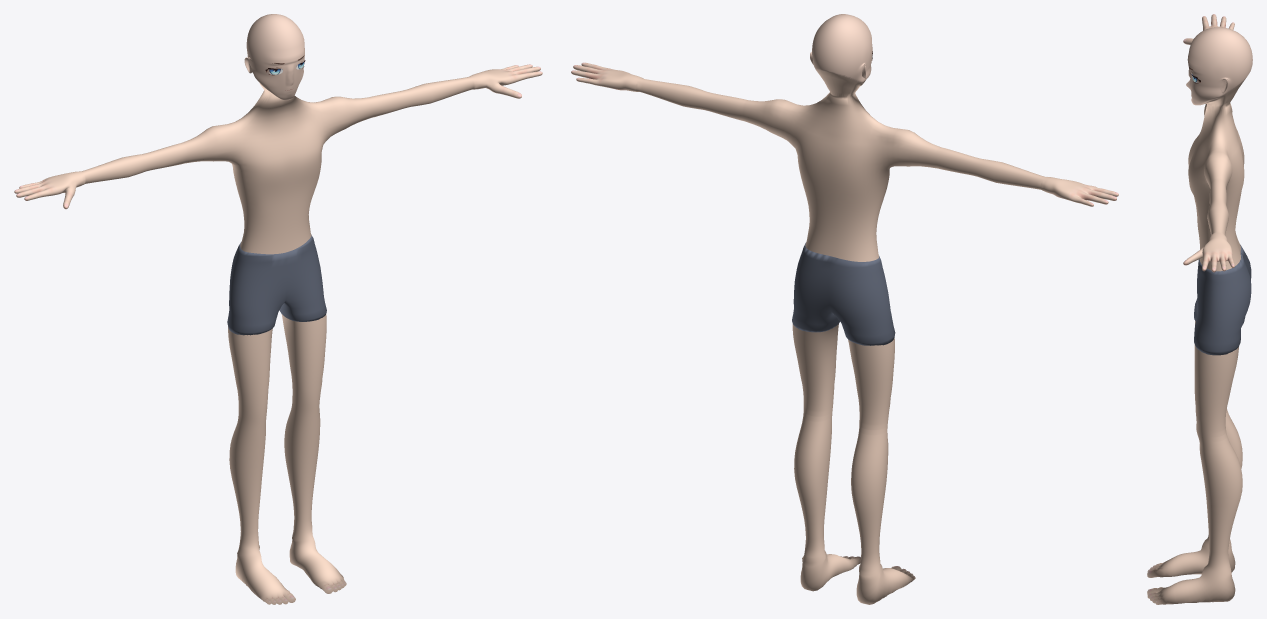
The model's file is enosh-t002.glb.
3 views of the same model, side by side, from view 1: azimuth 30°, elevation 25°; view 2: azimuth 150°, elevation 25°; view 3: azimuth 270°, elevation 25° (orthographic). The views are drawn at different scales.
Parts seen in each view (by area): view 1: Enosh_Skin, Enosh_Under_Short; view 2: Enosh_Skin, Enosh_Under_Short; view 3: Enosh_Skin, Enosh_Under_Short.
Part boxes in pixels (x1,y1,x2,y2): Enosh_Skin: (14, 14, 542, 604); Enosh_Under_Short: (227, 235, 326, 335); Enosh_Skin: (571, 14, 1118, 604); Enosh_Under_Short: (792, 243, 895, 345); Enosh_Skin: (1147, 14, 1252, 604); Enosh_Under_Short: (1194, 244, 1251, 355).
Size of the model in its own units: 1.72 by 1.74 by 0.2994.
16 materials, 14 textured.
